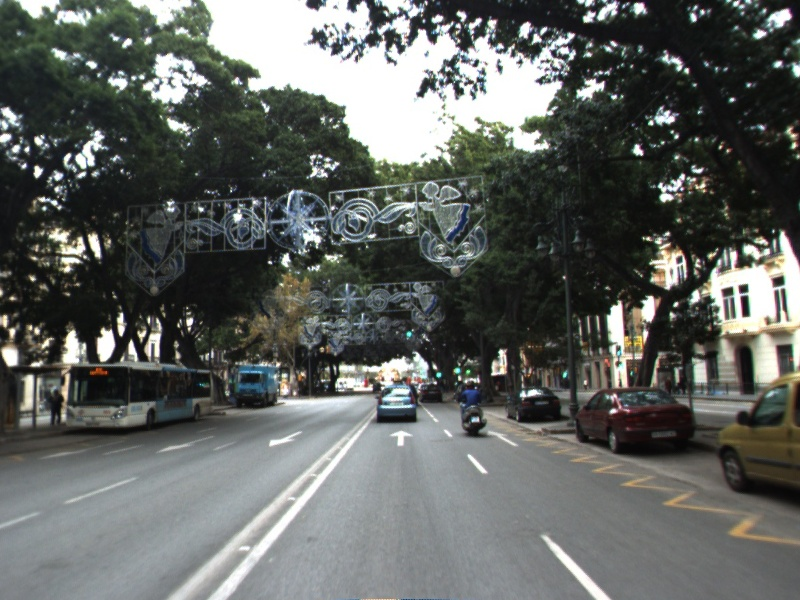STRAIGHT: (486, 429, 521, 448), (387, 428, 416, 448)
